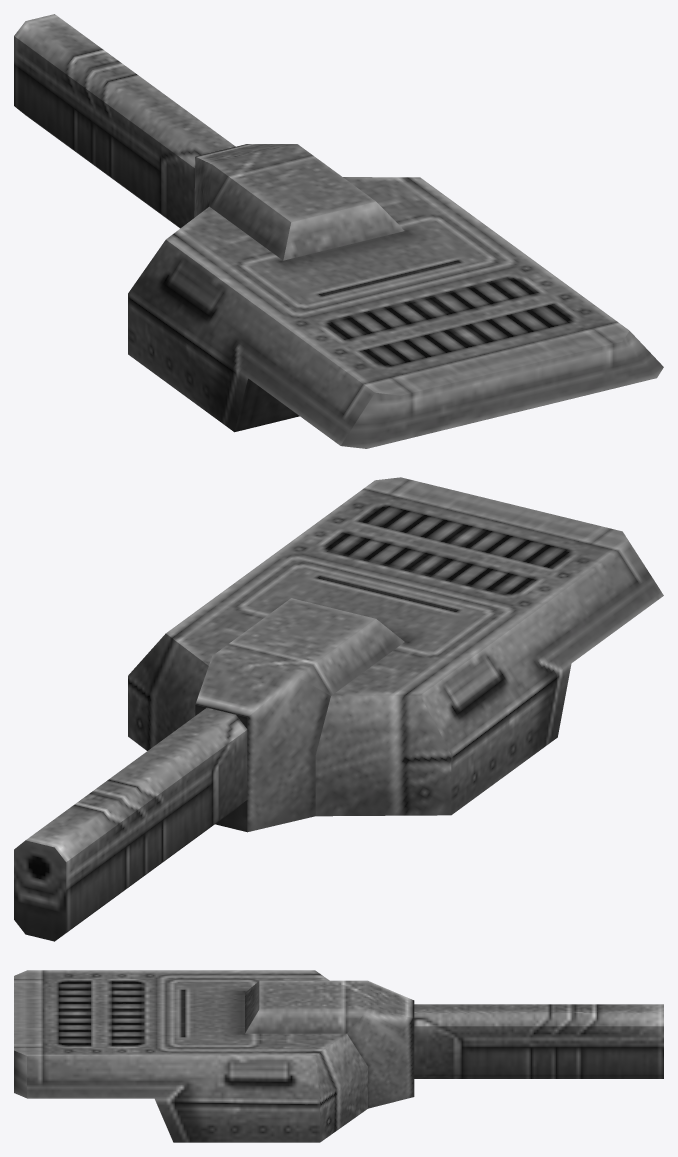
Rendered from thunder.glb.
3 renders of one model, top to bottom at view 1: azimuth 30°, elevation 25°; view 2: azimuth 150°, elevation 25°; view 3: azimuth 270°, elevation 25°, orthographic. The views are drawn at different scales.
Parts seen in each view (by area): view 1: turret, barrel; view 2: turret, barrel; view 3: turret, barrel.
Boxes of the visible parts, box(x1,y1,x2,y2) form: turret: box(128, 144, 663, 448); barrel: box(14, 14, 235, 228); turret: box(128, 477, 663, 832); barrel: box(14, 708, 247, 941); turret: box(14, 970, 414, 1142); barrel: box(414, 1004, 663, 1078).
Size of the model in its own units: 196 by 78.51 by 496.
1 material, 1 textured.
